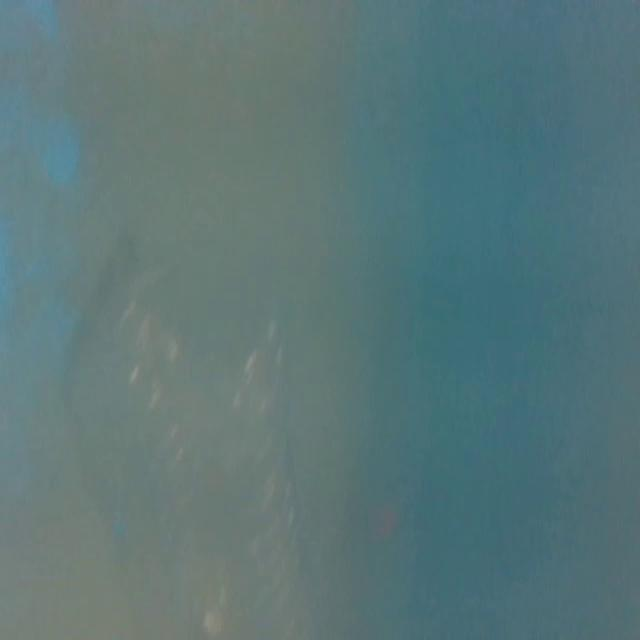plastic bottle: (57, 237, 328, 640)
